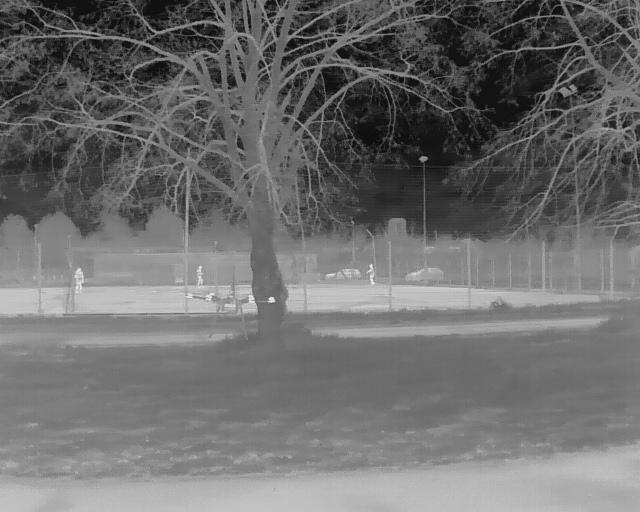drone: (174, 285, 287, 347)
